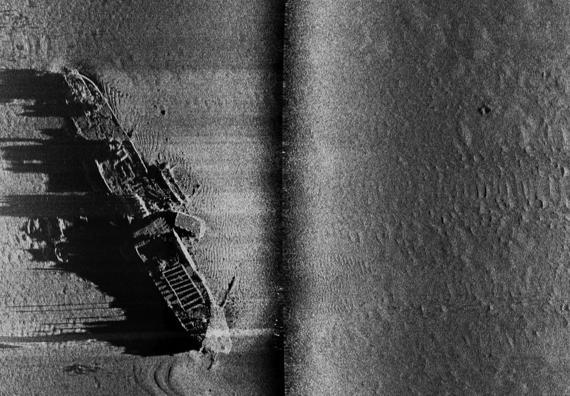ship: (59, 63, 233, 355)
